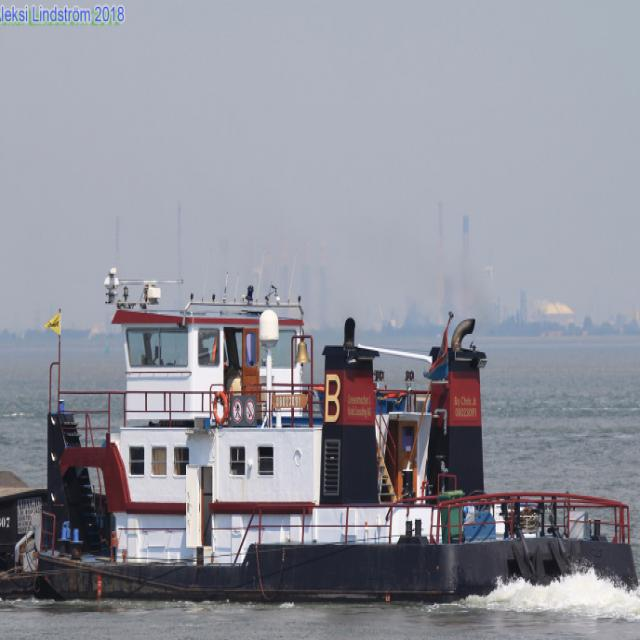tugboat: (43, 264, 640, 619)
